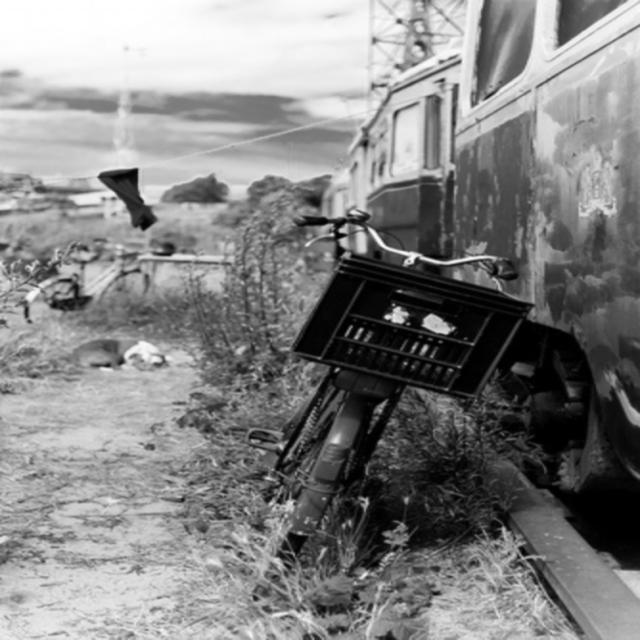bicycle: (238, 206, 532, 591), (18, 243, 150, 321)
dog: (65, 336, 167, 372)
